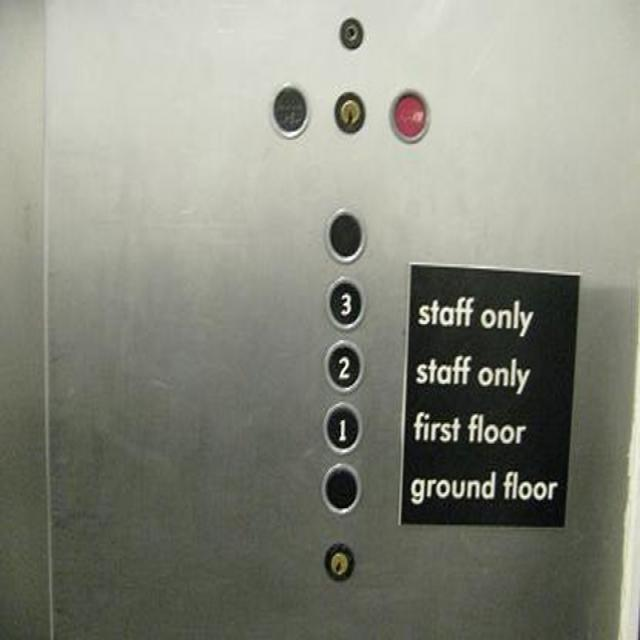1: (321, 400, 362, 453)
2: (321, 336, 364, 391)
3: (323, 275, 366, 328)
blur: (388, 85, 431, 144), (270, 84, 310, 136)
empty: (323, 207, 365, 261), (320, 462, 362, 514)
keyhole: (332, 89, 367, 135), (320, 538, 356, 582)
